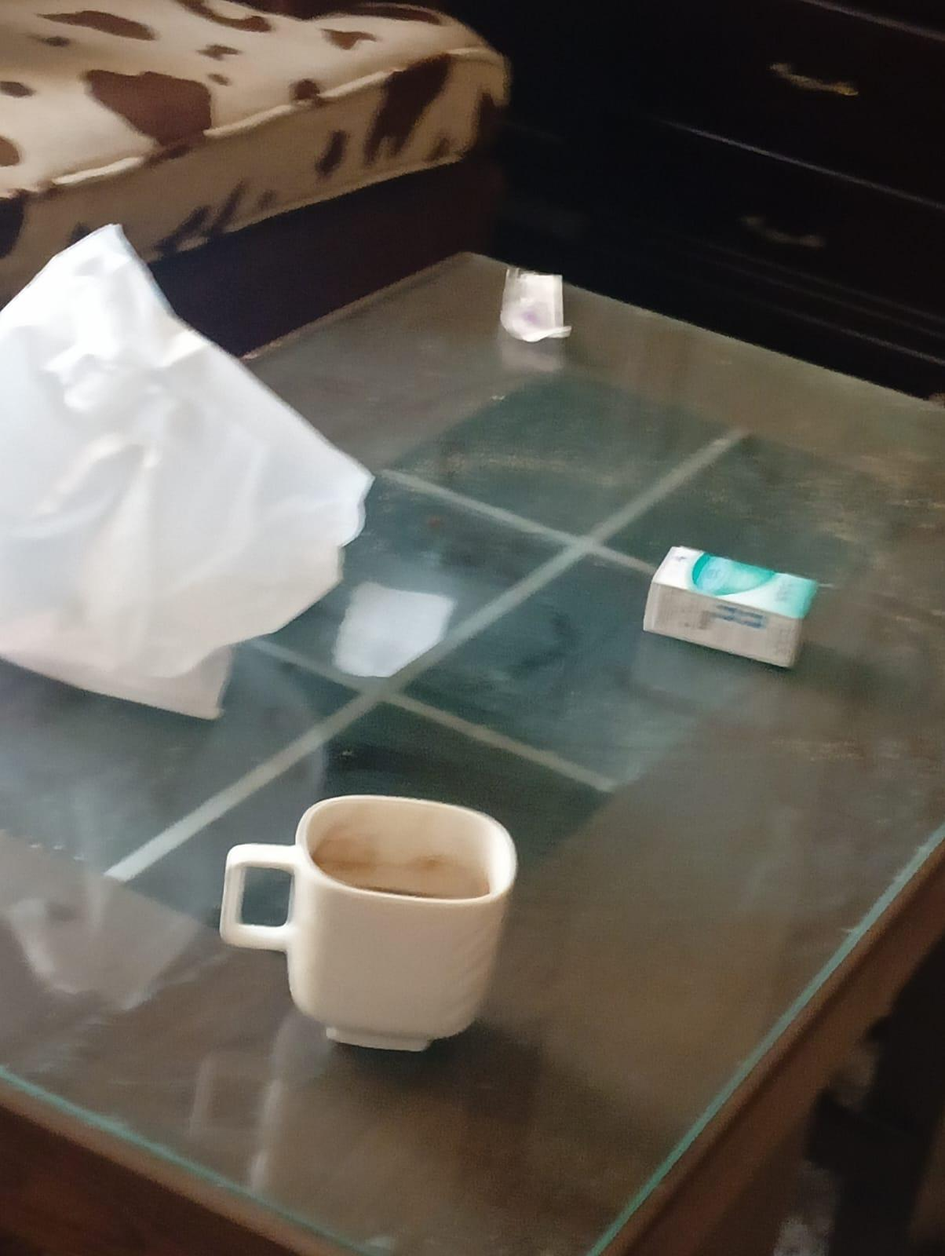cup: (220, 796, 516, 1050)
